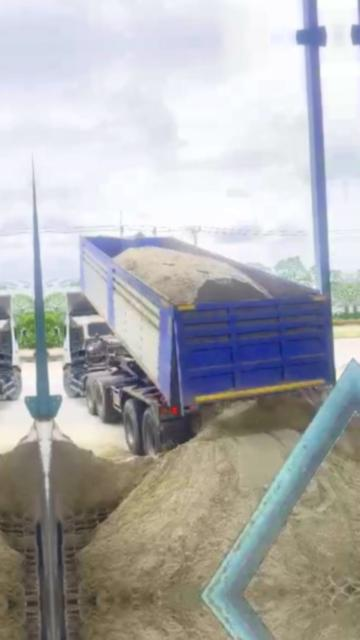sand: (81, 386, 329, 599), (247, 424, 360, 592), (51, 426, 151, 519), (114, 246, 269, 303)
